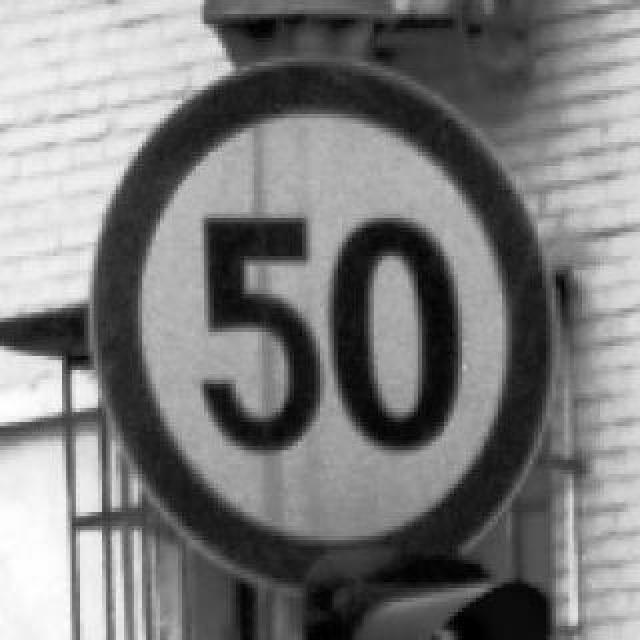50 kph: (84, 52, 556, 596)
